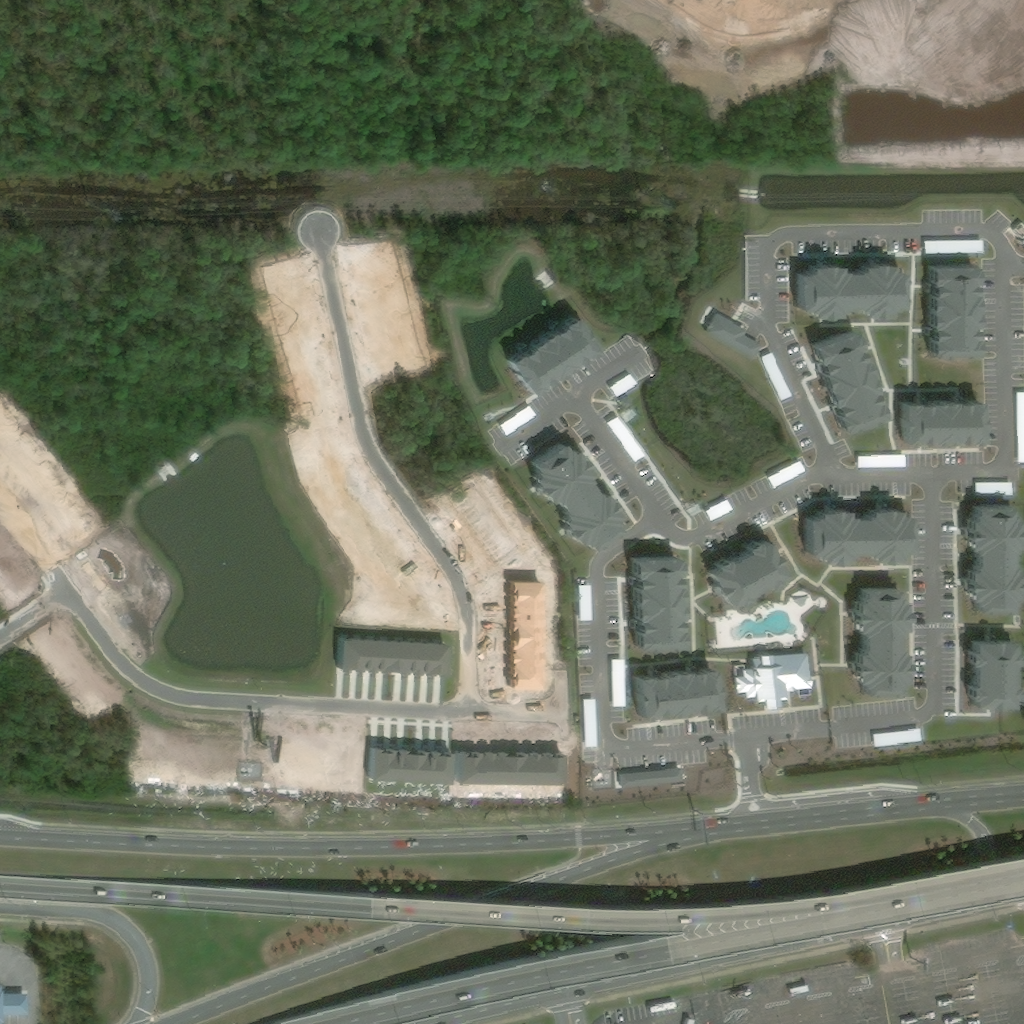no_damage: (530, 442, 626, 549), (960, 497, 1023, 613), (811, 332, 885, 430), (507, 315, 597, 395), (802, 505, 920, 564), (849, 586, 912, 694), (707, 538, 791, 606), (795, 263, 902, 316), (629, 553, 688, 649), (630, 666, 724, 720), (963, 635, 1023, 713), (733, 652, 807, 707), (899, 399, 982, 446), (617, 770, 682, 789), (0, 981, 27, 1020), (1013, 345, 1023, 375), (1013, 288, 1023, 302), (986, 334, 996, 347)
